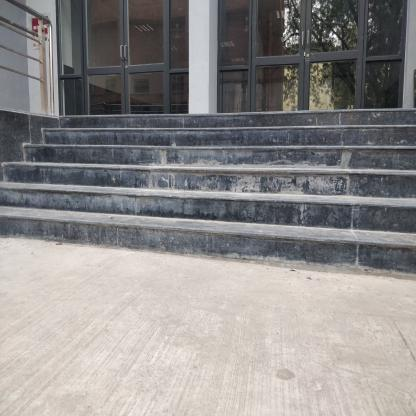stairs: (54, 109, 412, 269)
